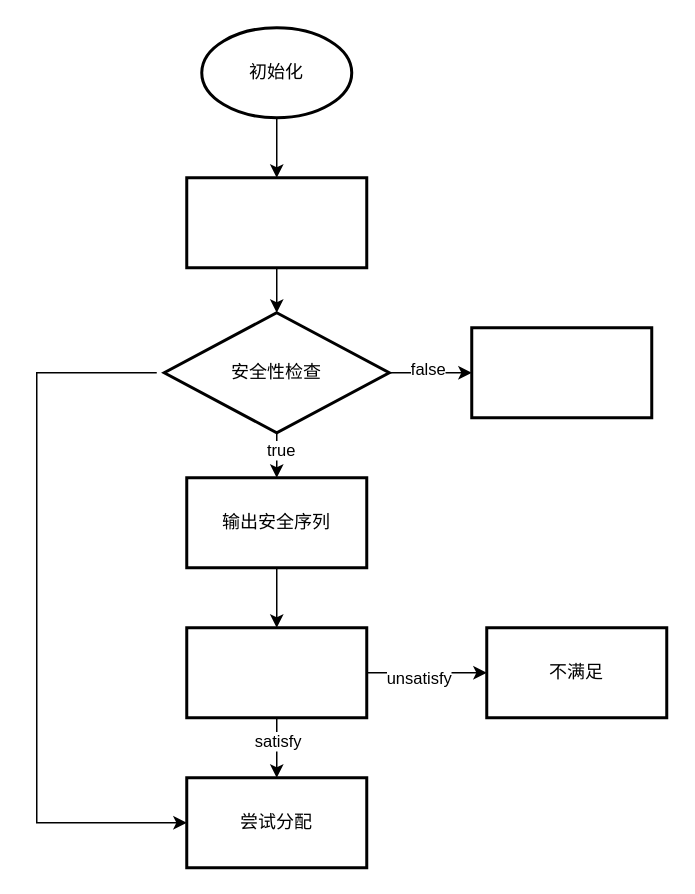
Image size: 695x894. Some labels were removed from this diagram. The shapes that lost their labels are listed below. From the top down, each one's centre as x and y in pixels, then its label:
point 276,222: 显示数据
point 561,372: 不安全
point 276,672: 提出请求require[j]
